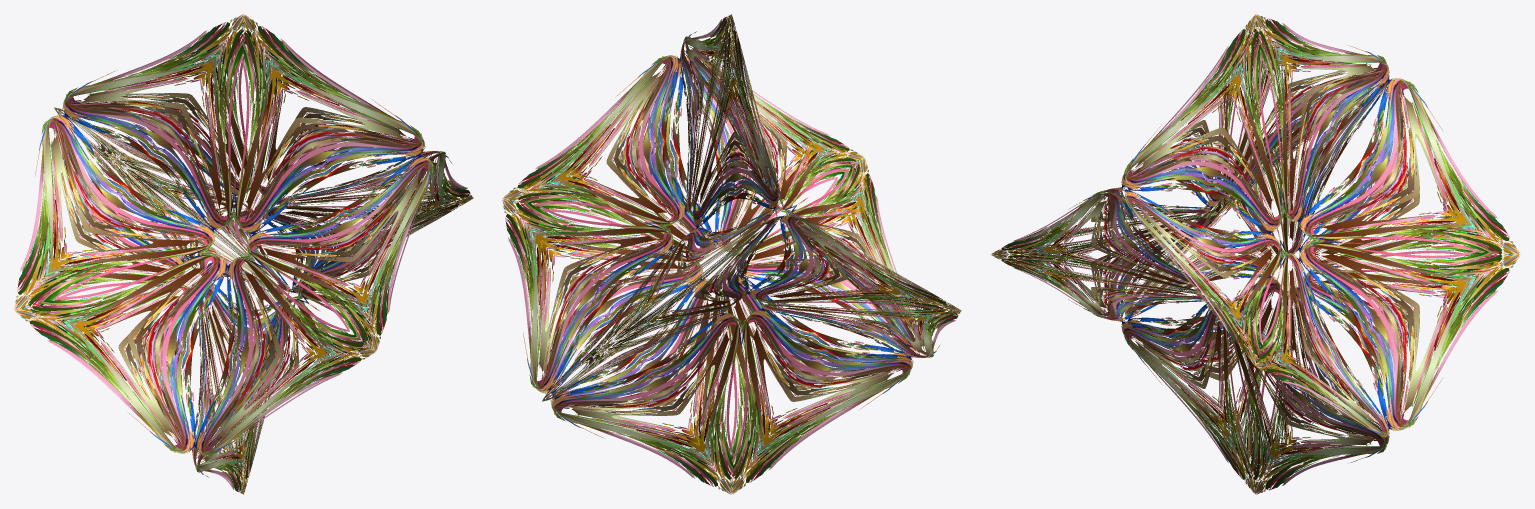
Rendered from Mobius24_9.obj.
3 renders of one model, left to right at view 1: azimuth 30°, elevation 25°; view 2: azimuth 150°, elevation 25°; view 3: azimuth 270°, elevation 25°, orthographic.
Bounding box in the file's own units: 2.24 × 2.24 × 2.24.
Materials: 1 (1 with a texture image).
